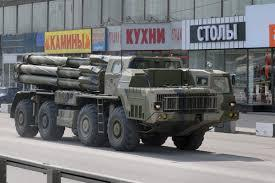MIL_SAM_TEL: (13, 52, 240, 151)
